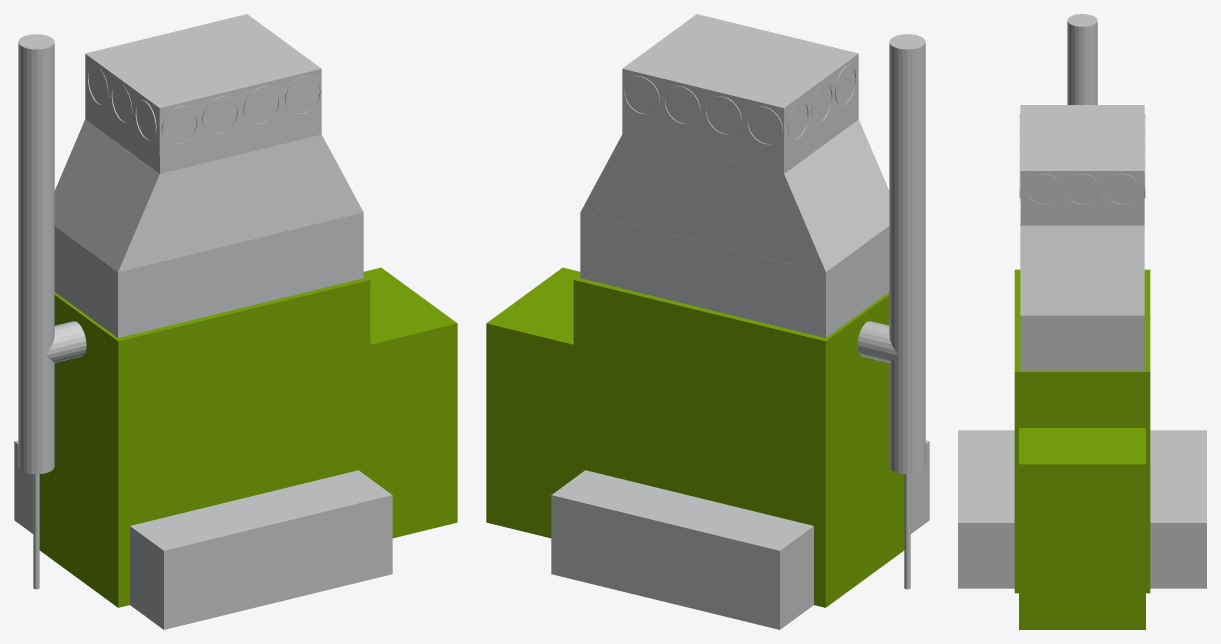
File: wanson.6.glb
3 views of the same model, side by side, from view 1: azimuth 30°, elevation 25°; view 2: azimuth 150°, elevation 25°; view 3: azimuth 270°, elevation 25° (orthographic). The views are drawn at different scales.
Parts seen in each view (by area): view 1: imagetostl_mesh2, imagetostl_mesh5, imagetostl_mesh727, imagetostl_mesh774, imagetostl_mesh781, imagetostl_mesh63, imagetostl_mesh716, imagetostl_mesh793, imagetostl_mesh227, imagetostl_mesh13, imagetostl_mesh792, imagetostl_mesh75 (+13 smaller); view 2: imagetostl_mesh8, imagetostl_mesh779, imagetostl_mesh795, imagetostl_mesh774, imagetostl_mesh38, imagetostl_mesh772, imagetostl_mesh716, imagetostl_mesh791, imagetostl_mesh227, imagetostl_mesh6, imagetostl_mesh792, imagetostl_mesh75 (+13 smaller); view 3: imagetostl_mesh3, imagetostl_mesh220, imagetostl_mesh0, imagetostl_mesh716, imagetostl_mesh42, imagetostl_mesh790, imagetostl_mesh6, imagetostl_mesh13, imagetostl_mesh9, imagetostl_mesh776, imagetostl_mesh777, imagetostl_mesh52 (+2 smaller).
Boxes of the visible parts, x1,y1,x2,y2 form: imagetostl_mesh2: (118, 280, 370, 607); imagetostl_mesh5: (164, 495, 392, 629); imagetostl_mesh727: (118, 134, 363, 271); imagetostl_mesh774: (39, 295, 118, 607); imagetostl_mesh781: (370, 323, 457, 538); imagetostl_mesh63: (118, 212, 363, 337); imagetostl_mesh716: (85, 14, 321, 107); imagetostl_mesh793: (159, 69, 321, 173); imagetostl_mesh227: (54, 119, 159, 271); imagetostl_mesh13: (130, 470, 391, 550); imagetostl_mesh792: (85, 54, 159, 173); imagetostl_mesh75: (54, 226, 117, 337); imagetostl_mesh8: (573, 280, 825, 607); imagetostl_mesh779: (551, 495, 779, 629); imagetostl_mesh795: (580, 134, 825, 271); imagetostl_mesh774: (825, 295, 904, 607); imagetostl_mesh38: (580, 212, 825, 337); imagetostl_mesh772: (486, 323, 573, 538); imagetostl_mesh716: (622, 14, 858, 107); imagetostl_mesh791: (622, 69, 783, 173); imagetostl_mesh227: (784, 119, 889, 271); imagetostl_mesh6: (552, 470, 813, 550); imagetostl_mesh792: (784, 54, 858, 173); imagetostl_mesh75: (826, 226, 889, 337); imagetostl_mesh3: (1019, 464, 1145, 629); imagetostl_mesh220: (1020, 225, 1144, 315); imagetostl_mesh0: (1014, 372, 1150, 593); imagetostl_mesh716: (1020, 105, 1144, 170); imagetostl_mesh42: (1020, 315, 1144, 370); imagetostl_mesh790: (1020, 171, 1144, 225); imagetostl_mesh6: (1150, 430, 1206, 522); imagetostl_mesh13: (958, 430, 1014, 522); imagetostl_mesh9: (1019, 428, 1145, 464); imagetostl_mesh776: (1150, 523, 1206, 588); imagetostl_mesh777: (958, 523, 1014, 588); imagetostl_mesh52: (1014, 269, 1150, 371).
Bounding box in the file's own units: 3.49 × 4.57 × 2.27.
